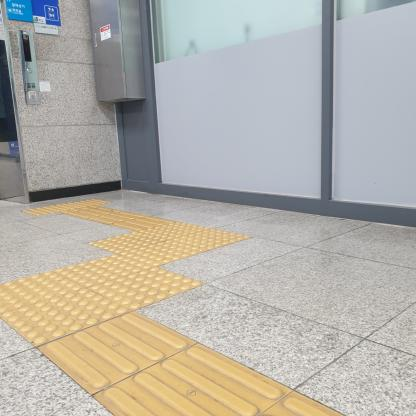go: (91, 343, 295, 416), (36, 311, 199, 395)
stop: (0, 288, 133, 347), (87, 267, 207, 311), (0, 271, 88, 314), (51, 253, 157, 288), (117, 239, 211, 267), (86, 231, 170, 254)
